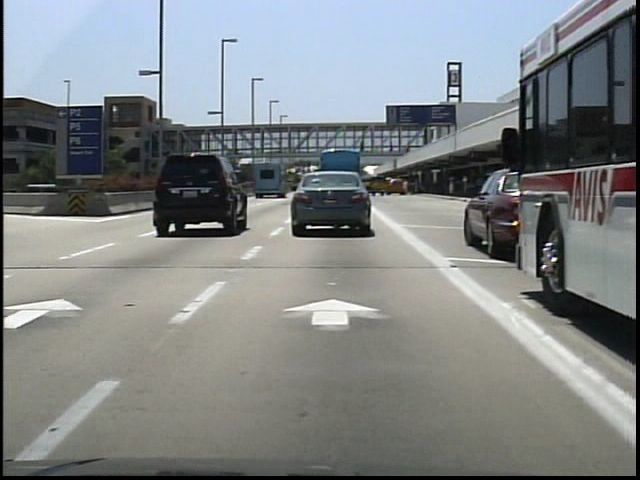person: (398, 176, 412, 198), (385, 136, 398, 158), (354, 137, 367, 157)
